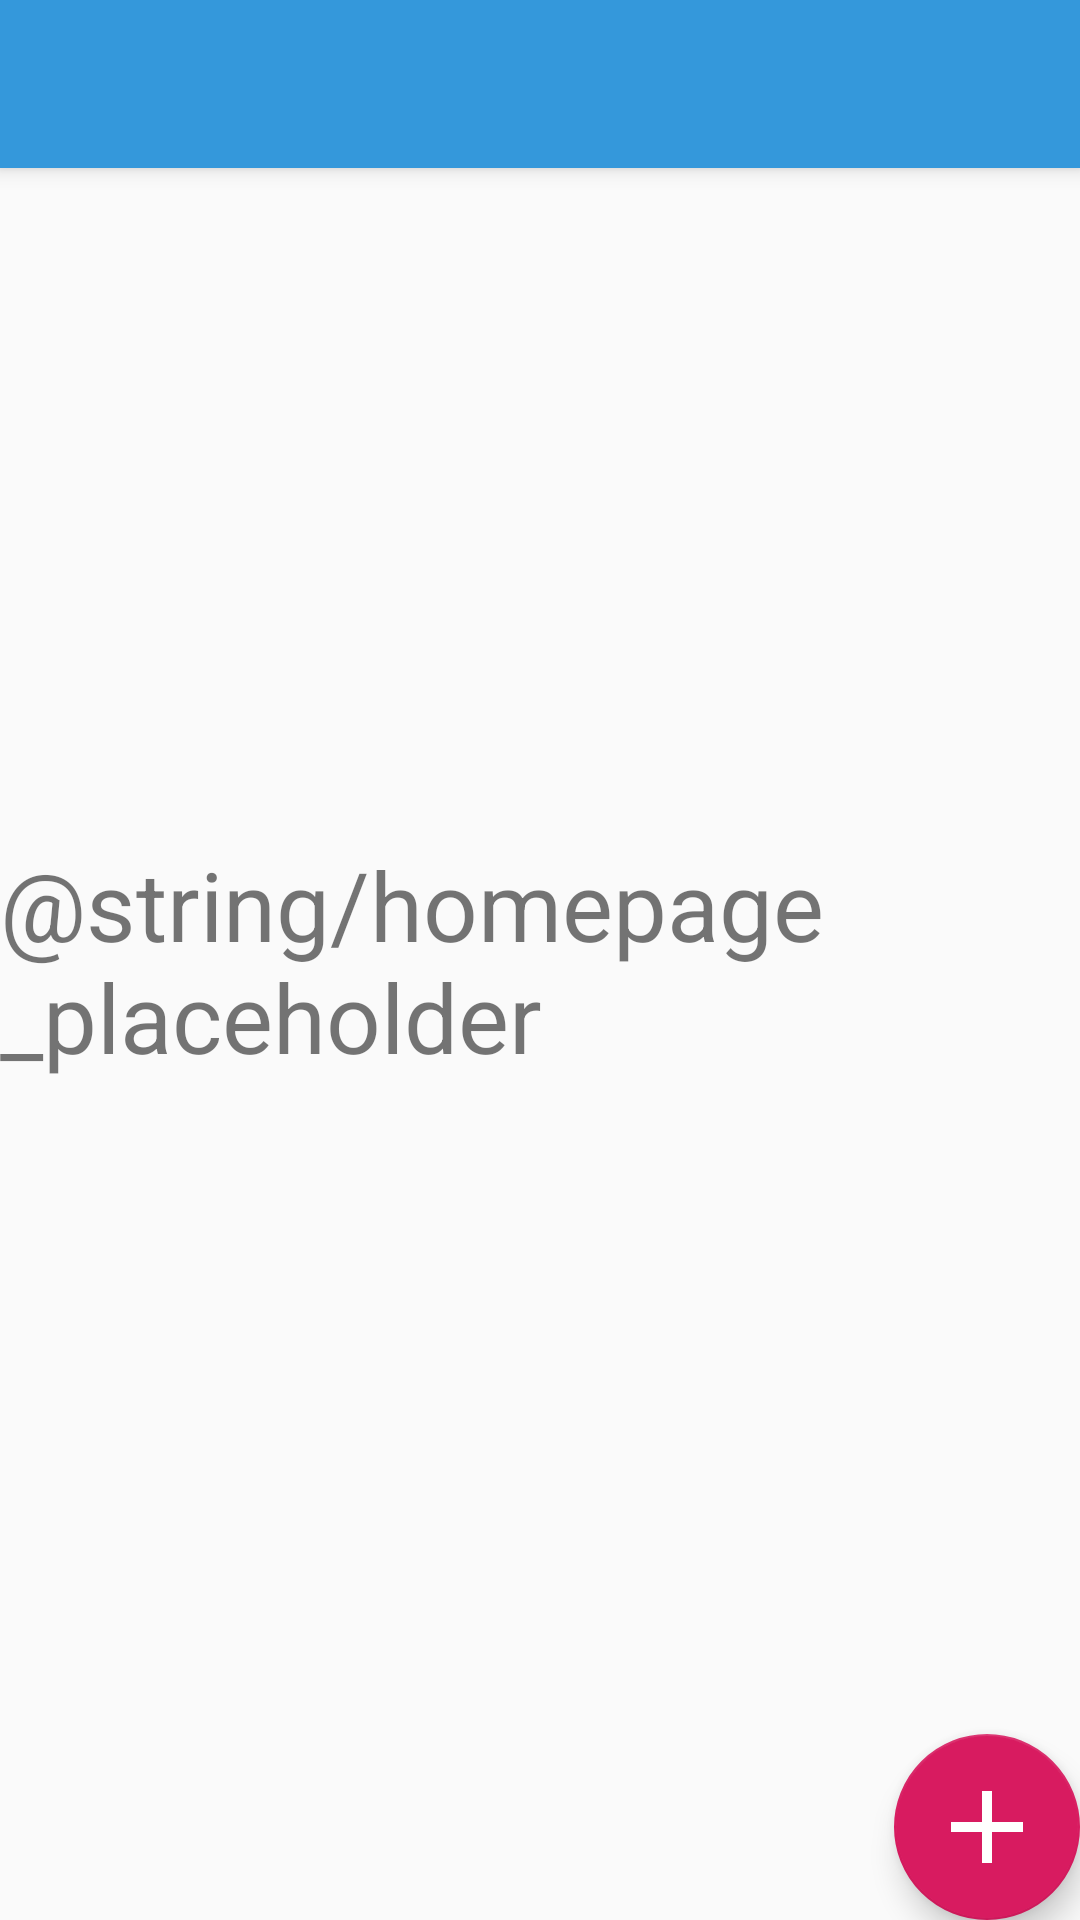

Icons on this 1080 × 1920 Android screen, each with the point to tap as point (x, y):
addplusbutton: point (987, 1827)
